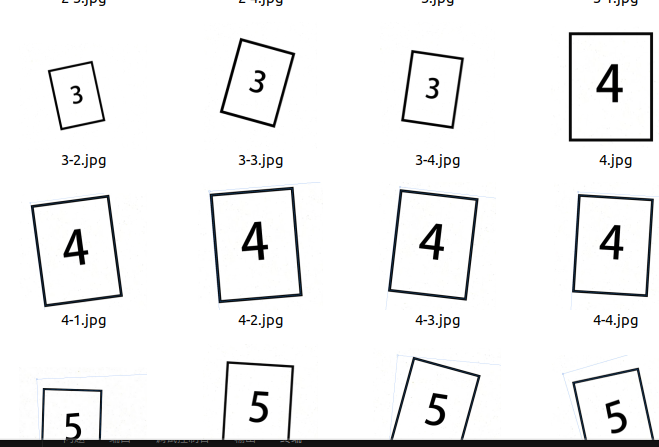five: (590, 390, 641, 437), (240, 379, 274, 433), (422, 384, 455, 433)
four: (227, 210, 284, 281), (46, 220, 107, 281), (586, 214, 639, 278), (408, 211, 457, 277), (588, 52, 634, 116)
three: (244, 57, 274, 101), (418, 65, 446, 111), (60, 77, 93, 110)
